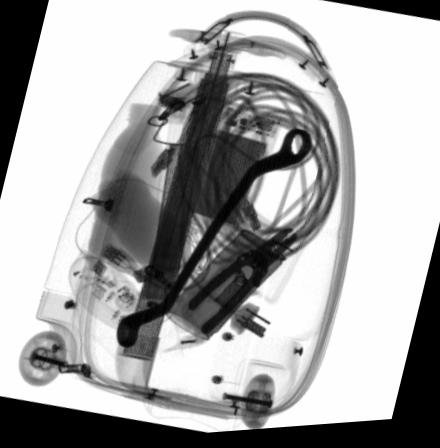Pliers: (185, 229, 301, 337)
Powerbank: (186, 106, 280, 228)
Wrench: (116, 132, 314, 350)
